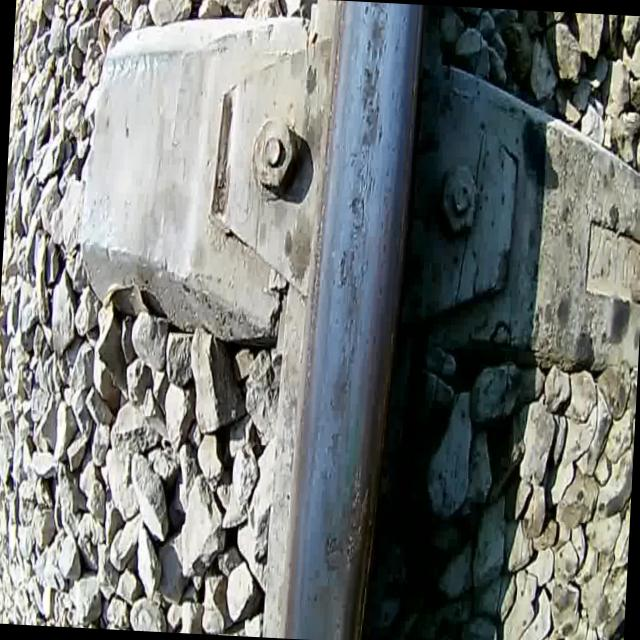Squats: (318, 238, 371, 435), (316, 455, 382, 592), (347, 1, 399, 160)
